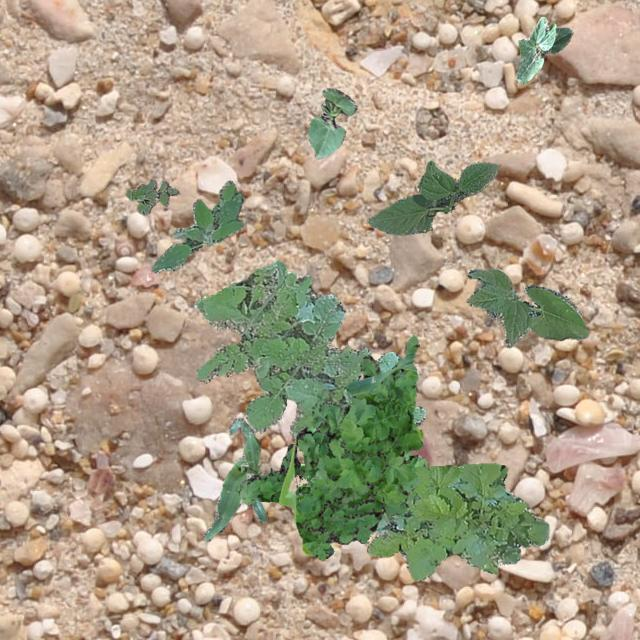crop: (366, 160, 498, 233), (466, 268, 586, 346), (202, 416, 266, 540), (514, 16, 572, 82), (306, 86, 356, 158)
weed: (194, 259, 426, 532), (238, 334, 422, 558), (366, 462, 548, 580), (150, 180, 242, 272), (301, 424, 424, 466), (124, 178, 178, 214), (284, 468, 322, 498), (342, 344, 369, 354)
